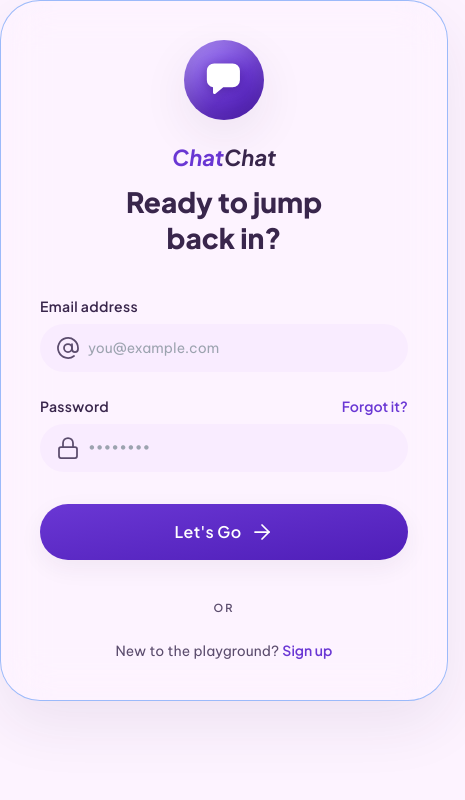
<LoginPage /> › credentials step — maps RATE_LIMITED to "too many attempts" message
Type "u@example.com" into the field labelled "Email address".
click(224, 348); type("u@example.com")  # box [40,324,408,372]
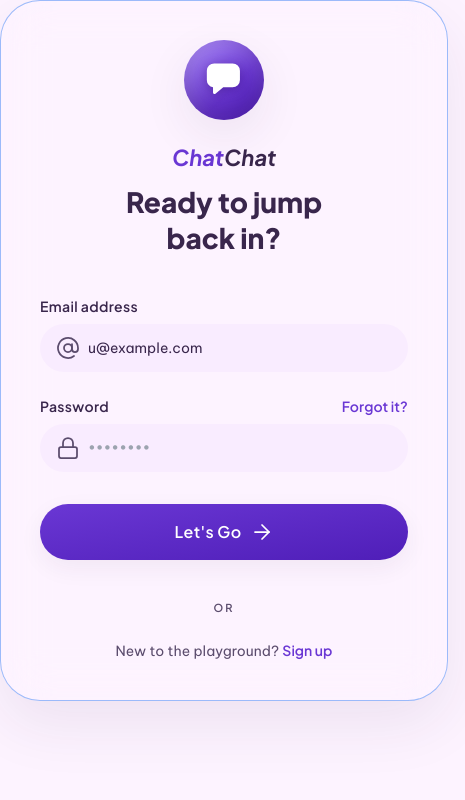
Type "Secret123!" into the password field labelled "Password".
click(224, 448); type("Secret123!")  # box [40,424,408,472]
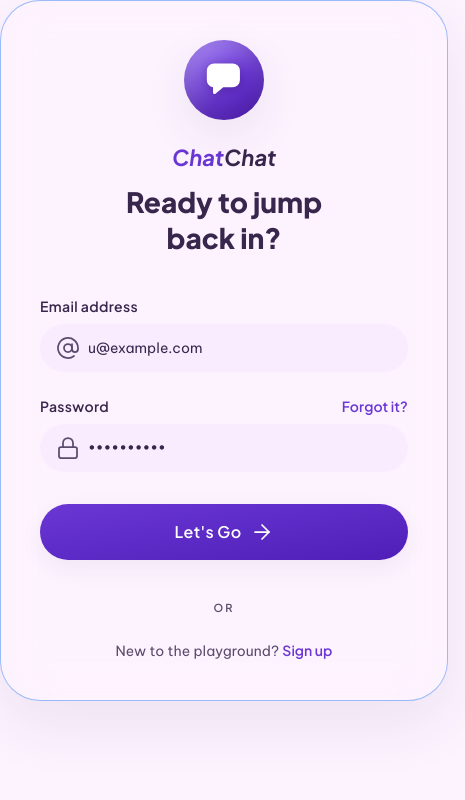
Click the button "Let's Go".
click(224, 532)  # box [40,504,408,560]
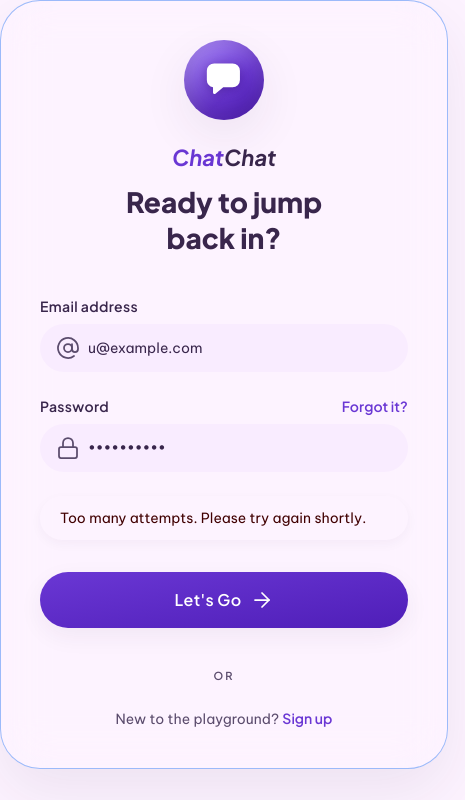
Check: the text "Too many attempts. Please try again shortly." is shown, box [40,496,408,540]
